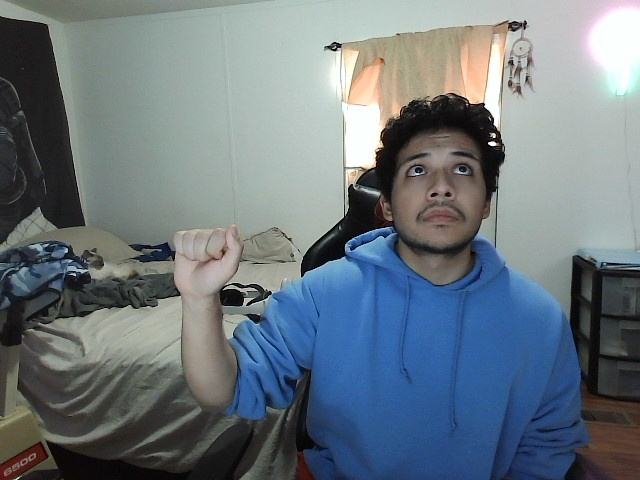A: (169, 220, 246, 297)
